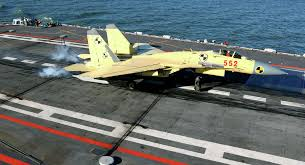fighter: (66, 23, 293, 93)
